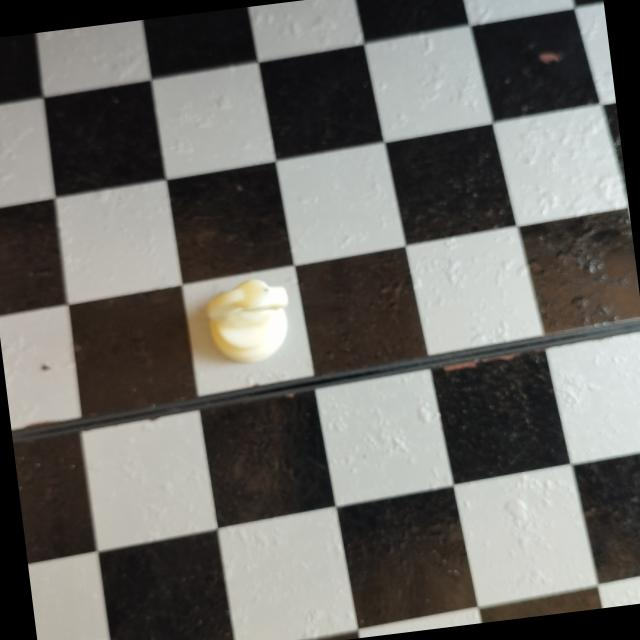White Knight: (192, 268, 306, 376)
